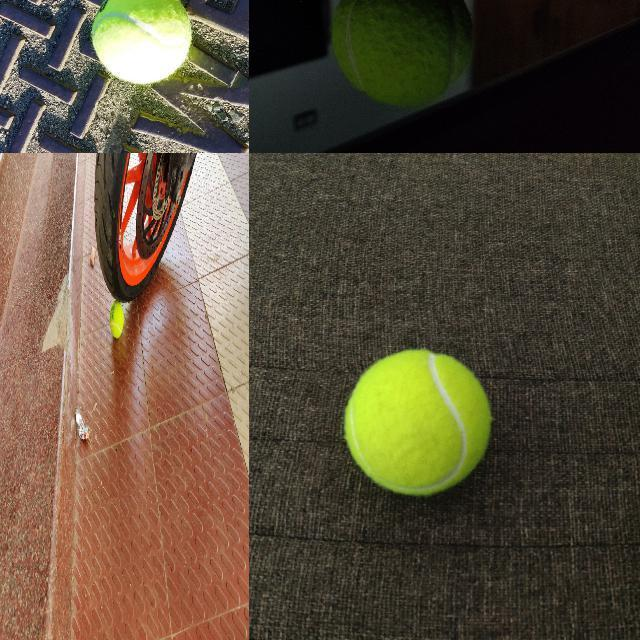tennis-ball: (343, 349, 491, 495), (90, 0, 192, 85), (110, 303, 124, 338)
